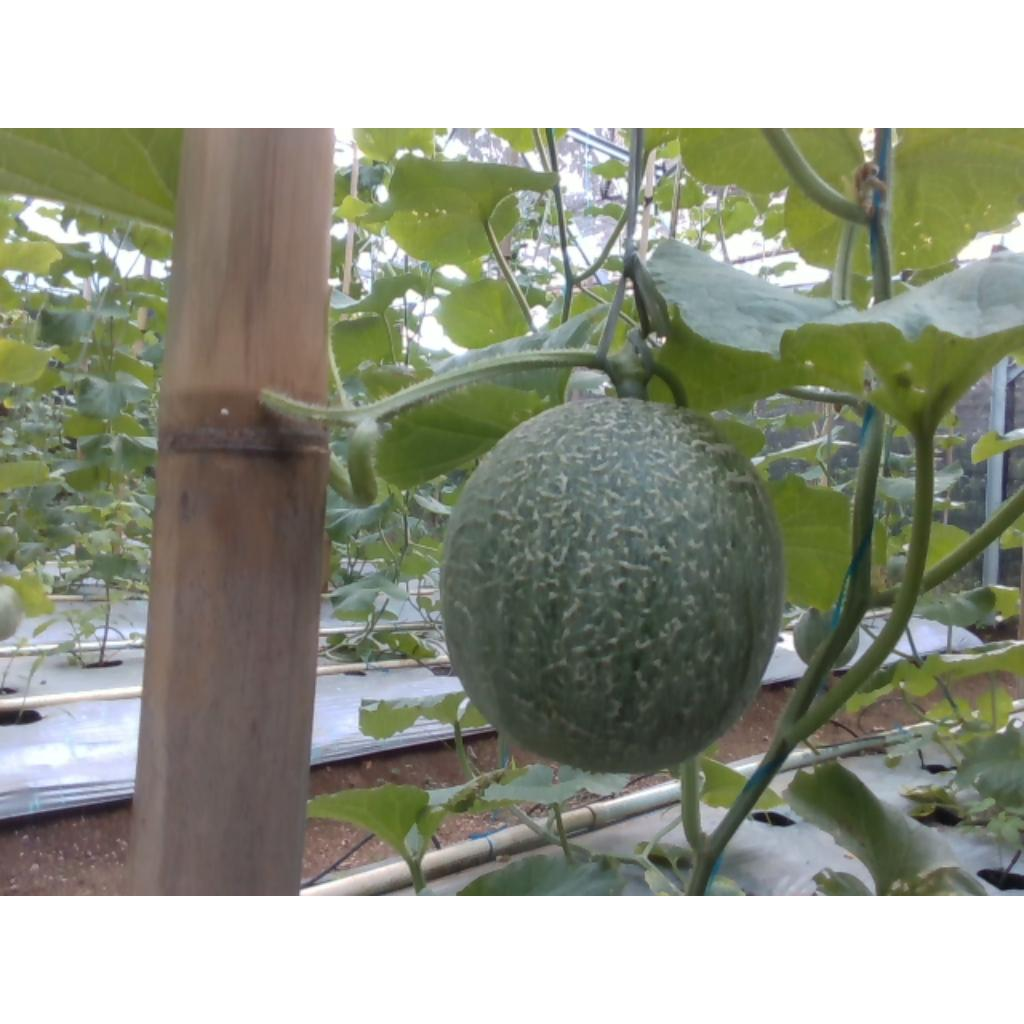melon: (442, 398, 786, 772)
